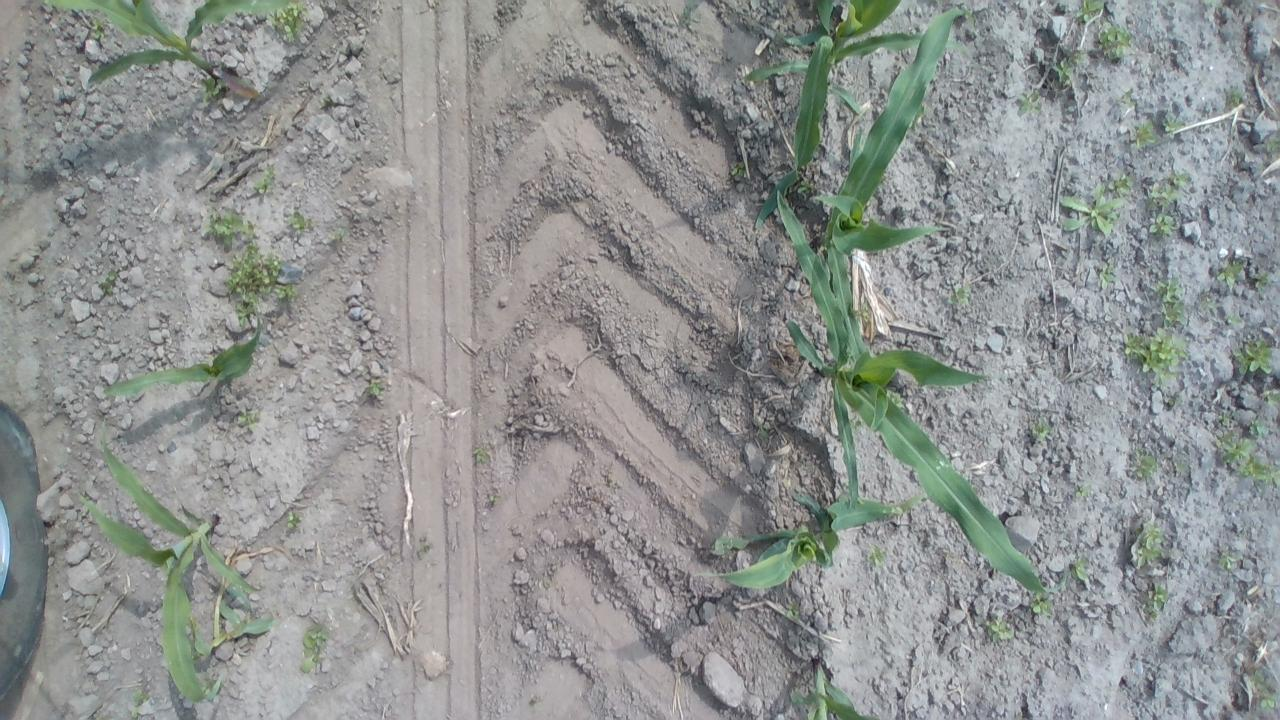Maize: (782, 166, 1054, 592), (785, 10, 974, 333), (72, 426, 278, 712), (736, 2, 950, 196), (40, 0, 294, 96), (706, 480, 920, 589), (94, 322, 272, 402), (781, 655, 886, 718)
Weeds: (221, 240, 300, 332), (1120, 328, 1190, 390), (1214, 428, 1276, 487), (1058, 187, 1119, 238), (198, 206, 256, 249), (1132, 519, 1168, 573), (1232, 336, 1275, 380), (299, 620, 331, 679), (1152, 277, 1187, 329), (267, 2, 309, 43), (1146, 168, 1186, 210), (1241, 668, 1278, 713), (1138, 582, 1174, 624), (1096, 21, 1132, 62), (982, 610, 1017, 646), (1128, 446, 1160, 484), (1051, 52, 1083, 88), (1014, 84, 1046, 118), (250, 161, 279, 198), (197, 72, 228, 106), (709, 532, 746, 560), (1026, 590, 1058, 622), (1216, 256, 1246, 288), (1064, 552, 1094, 584), (1129, 119, 1157, 152), (361, 373, 390, 404), (128, 683, 154, 717), (99, 264, 125, 298), (1148, 209, 1178, 238), (1070, 0, 1106, 24), (284, 208, 314, 236), (468, 441, 496, 470), (1093, 260, 1120, 290), (864, 542, 890, 572), (1108, 172, 1134, 202), (1028, 416, 1054, 446), (236, 406, 264, 433), (1242, 415, 1270, 441), (948, 282, 976, 308), (678, 0, 703, 29), (88, 14, 112, 43), (1224, 83, 1248, 112), (1196, 289, 1220, 317), (280, 505, 304, 532), (1114, 88, 1138, 115), (1215, 551, 1241, 575), (1160, 112, 1184, 138), (852, 303, 876, 328), (1251, 268, 1274, 293), (415, 536, 436, 560), (1072, 483, 1094, 503), (797, 176, 817, 198), (727, 160, 748, 180), (1225, 310, 1246, 330), (749, 419, 772, 437), (1262, 385, 1279, 409), (1162, 389, 1182, 409), (317, 90, 336, 110), (485, 492, 503, 508)
